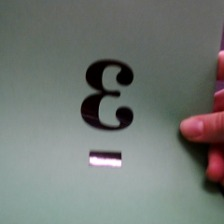green3: (74, 53, 141, 178)
